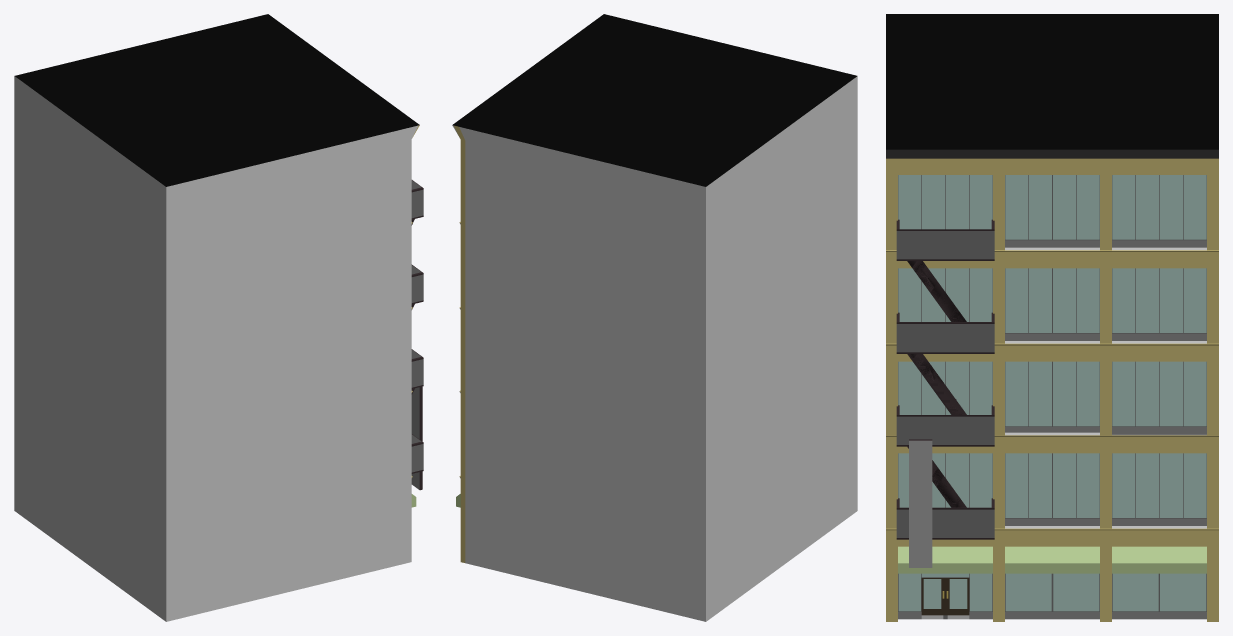
File: bldg h.fbx
3 views of the same model, side by side, from view 1: azimuth 30°, elevation 25°; view 2: azimuth 150°, elevation 25°; view 3: azimuth 270°, elevation 25° (orthographic). The views are drawn at different scales.
Visible parts, largest first — view 1: fire escape; view 2: fire escape; view 3: fire escape.
Boxes of the visible parts, x1,y1,x2,y2 form: fire escape: (14, 14, 423, 621); fire escape: (452, 14, 857, 621); fire escape: (886, 14, 1218, 621).
Size of the model in its own units: 1420 by 2213 by 1400.
